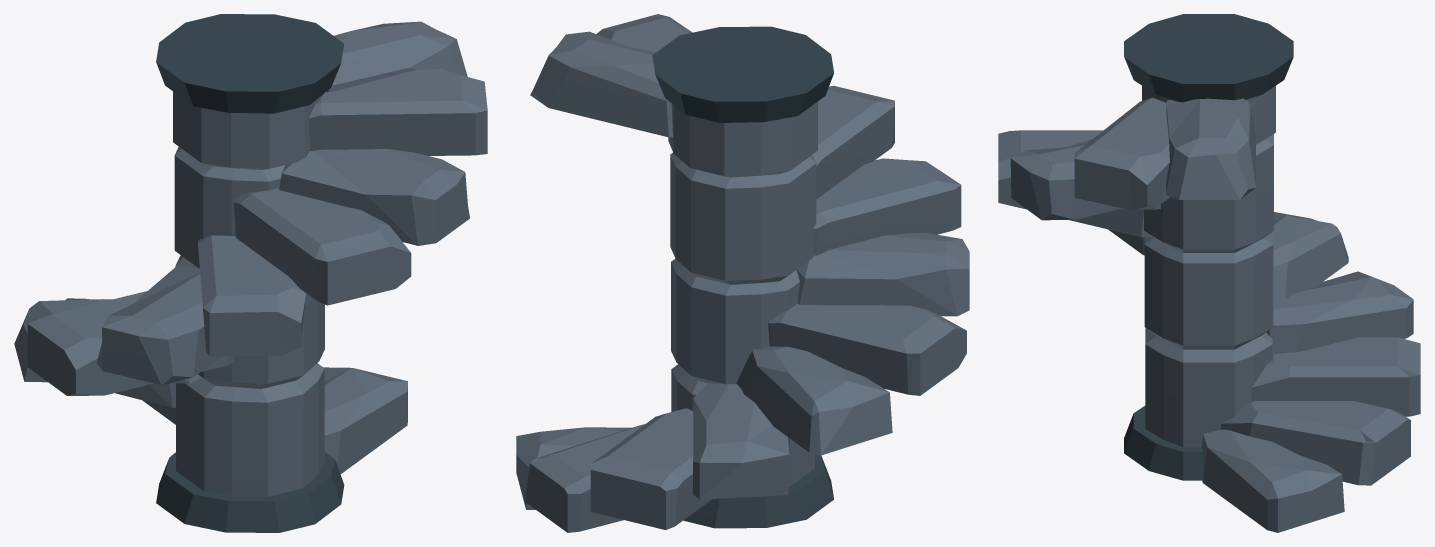
The model's file is Staircase_stone_big_A.fbx.
3 renders of one model, left to right at view 1: azimuth 30°, elevation 25°; view 2: azimuth 150°, elevation 25°; view 3: azimuth 270°, elevation 25°, orthographic. The views are drawn at different scales.
Visible parts, largest first — view 1: Staircase_stone_big_A; view 2: Staircase_stone_big_A; view 3: Staircase_stone_big_A.
Boxes of the visible parts, box(x1,y1,x2,y2) form: Staircase_stone_big_A: box(14, 14, 487, 532); Staircase_stone_big_A: box(516, 14, 969, 532); Staircase_stone_big_A: box(998, 14, 1420, 532).
Bounding box in the file's own units: 289 × 301 × 290.
